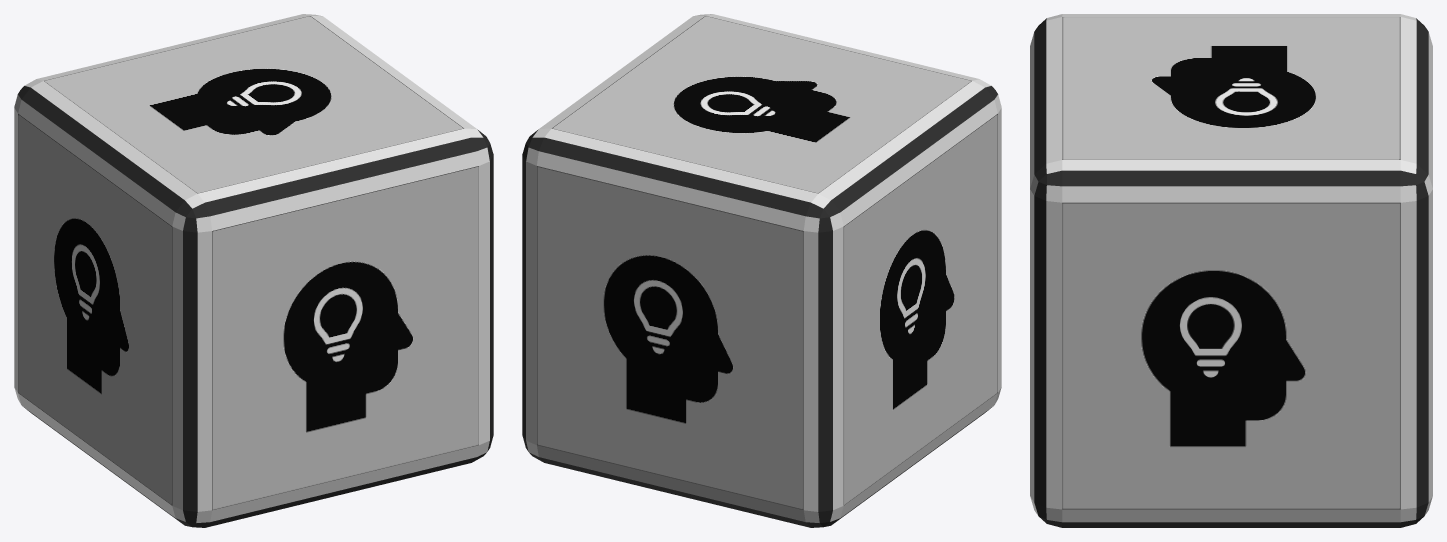
The model's file is MenuBlocks.fbx.
The picture shows the model from 3 angles, left to right: view 1: azimuth 30°, elevation 25°; view 2: azimuth 150°, elevation 25°; view 3: azimuth 270°, elevation 25°; orthographic projection. The views are drawn at different scales.
Parts seen in each view (by area): view 1: LearnBlock; view 2: LearnBlock; view 3: LearnBlock.
Boxes of the visible parts, bbox=[...] form: LearnBlock: bbox=[14, 14, 493, 527]; LearnBlock: bbox=[522, 14, 1001, 527]; LearnBlock: bbox=[1030, 14, 1432, 527].
Size of the model in its own units: 100 by 100 by 100.
